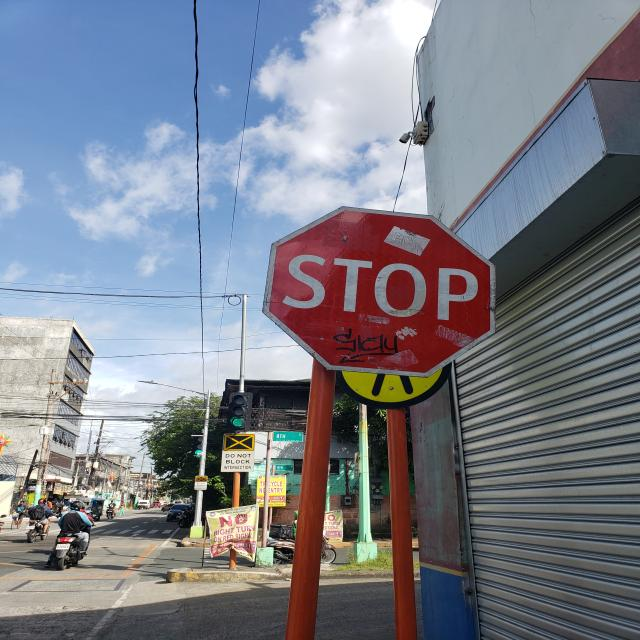stop-sign: (262, 205, 496, 378)
